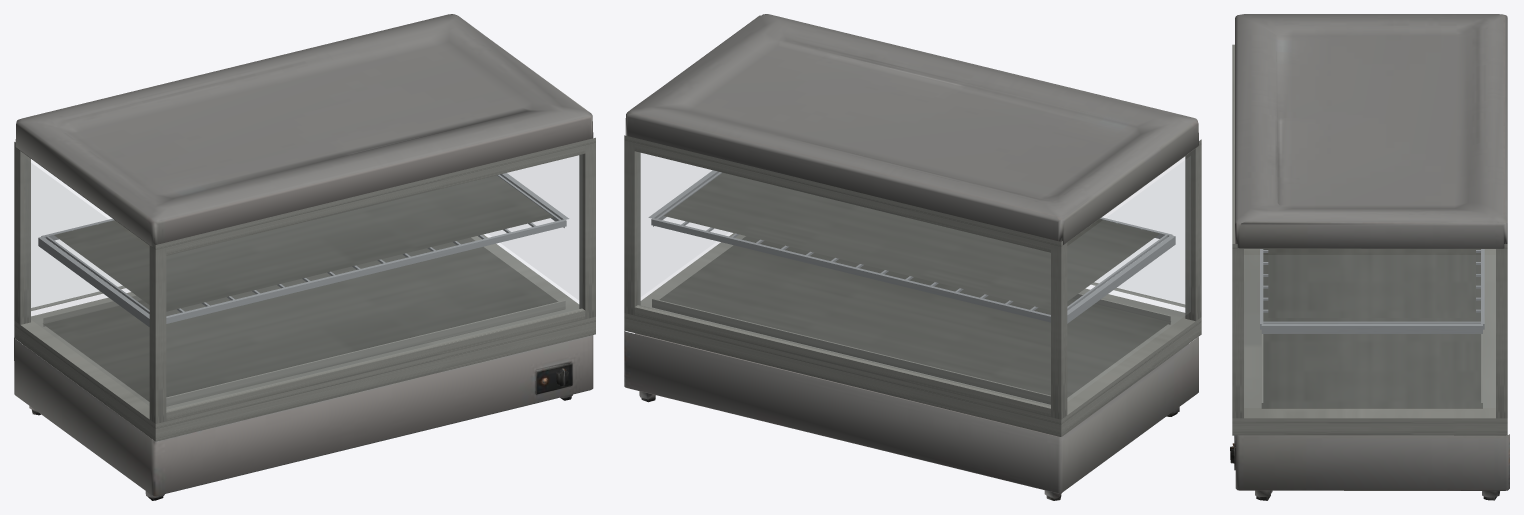
Rendered from shop-display-open-t25.glb.
The picture shows the model from 3 angles, left to right: view 1: azimuth 30°, elevation 25°; view 2: azimuth 150°, elevation 25°; view 3: azimuth 270°, elevation 25°; orthographic projection. The views are drawn at different scales.
Parts seen in each view (by area): view 1: body, interior, glass; view 2: body, interior, glass; view 3: body, interior.
Boxes of the visible parts, <box> form: body: <box>14,14,593,500</box>; interior: <box>14,137,595,441</box>; glass: <box>31,155,579,310</box>; body: <box>624,14,1198,500</box>; interior: <box>624,135,1201,436</box>; glass: <box>640,153,1185,307</box>; body: <box>1230,14,1509,500</box>; interior: <box>1232,44,1507,435</box>.
Size of the model in its own units: 1.1 by 0.7 by 0.62.
Materials: 3 (2 with a texture image).
